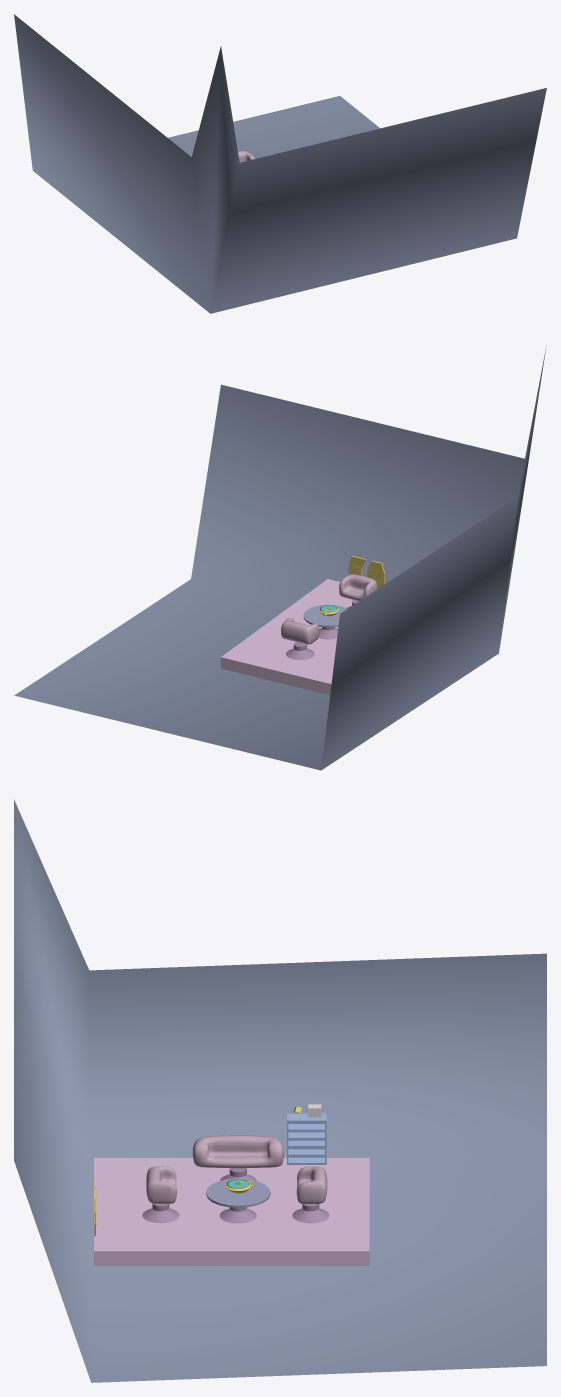
File: lounge.fbx
3 views of the same model, one above another, from view 1: azimuth 30°, elevation 25°; view 2: azimuth 150°, elevation 25°; view 3: azimuth 270°, elevation 25° (orthographic). The views are drawn at different scales.
Parts seen in each view (by area): view 1: pCube137; view 2: pCube137, pCube96, pCube105, pCube99, pCylinder27; view 3: pCube137, pCube96, pCube100, pCube101, pCylinder27, pCube105, pCube99.
Boxes of the visible parts, box(x1,y1,x2,y2) form: pCube137: box(14, 14, 546, 313); pCube137: box(14, 345, 546, 770); pCube96: box(221, 579, 352, 694); pCube105: box(339, 574, 377, 600); pCube99: box(281, 618, 319, 644); pCylinder27: box(303, 604, 347, 627); pCube137: box(14, 799, 546, 1382); pCube96: box(94, 1158, 369, 1265); pCube100: box(192, 1135, 284, 1168); pCube101: box(287, 1113, 326, 1164); pCylinder27: box(206, 1178, 270, 1207); pCube105: box(146, 1166, 176, 1203); pCube99: box(296, 1166, 327, 1203).
Size of the model in its own units: 18.77 by 16.19 by 20.64.
